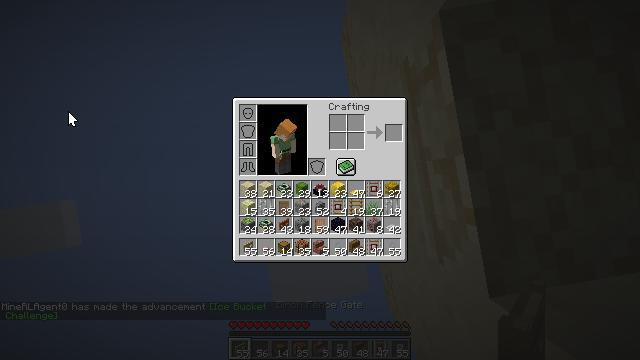cursor: (68, 111, 78, 127)
